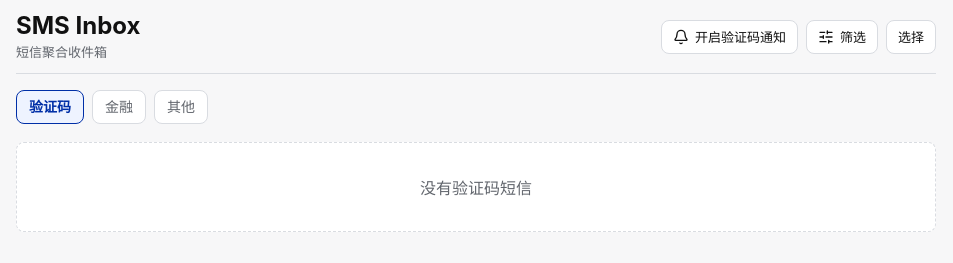
Test: InboxApp › keeps the initial visible fetch alive for active tab and current read no-ops
Step 1. Click the button "验证码" → (50, 107), box [16,90,84,124]
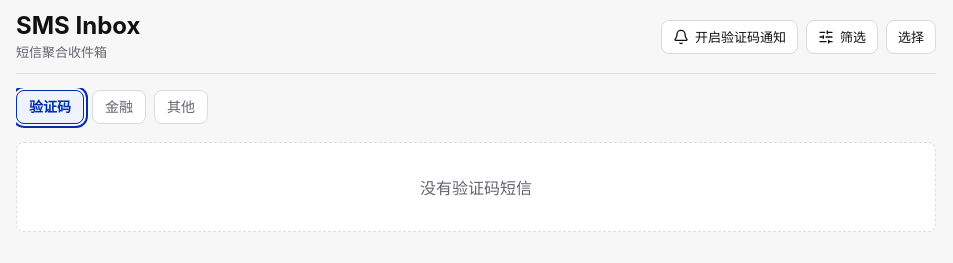
Step 2. Click the button "筛选" → (842, 37), box [806,20,878,54]
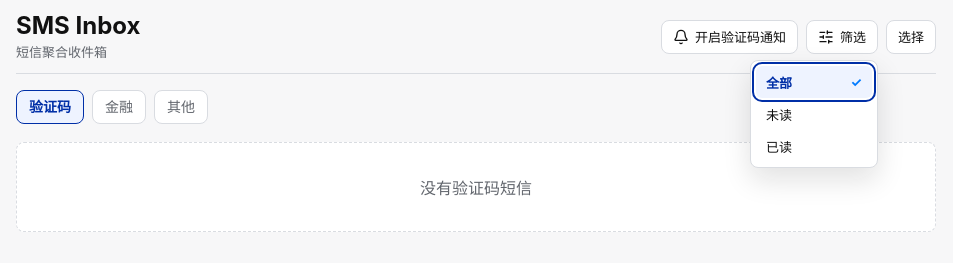
Step 3. Click the menu item "全部" → (814, 82), box [756,66,872,98]
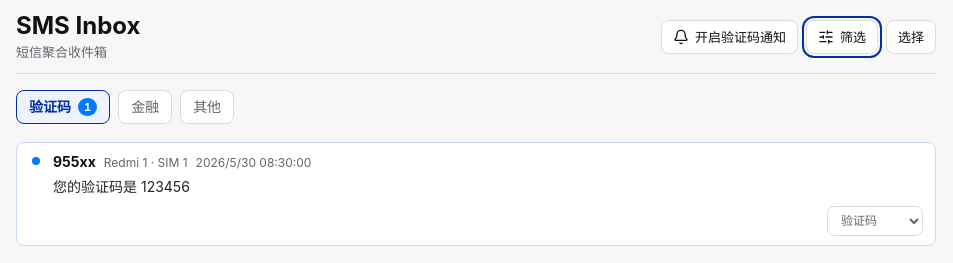
Check: the text "您的验证码是 123456" is shown, box [53,178,190,195]
